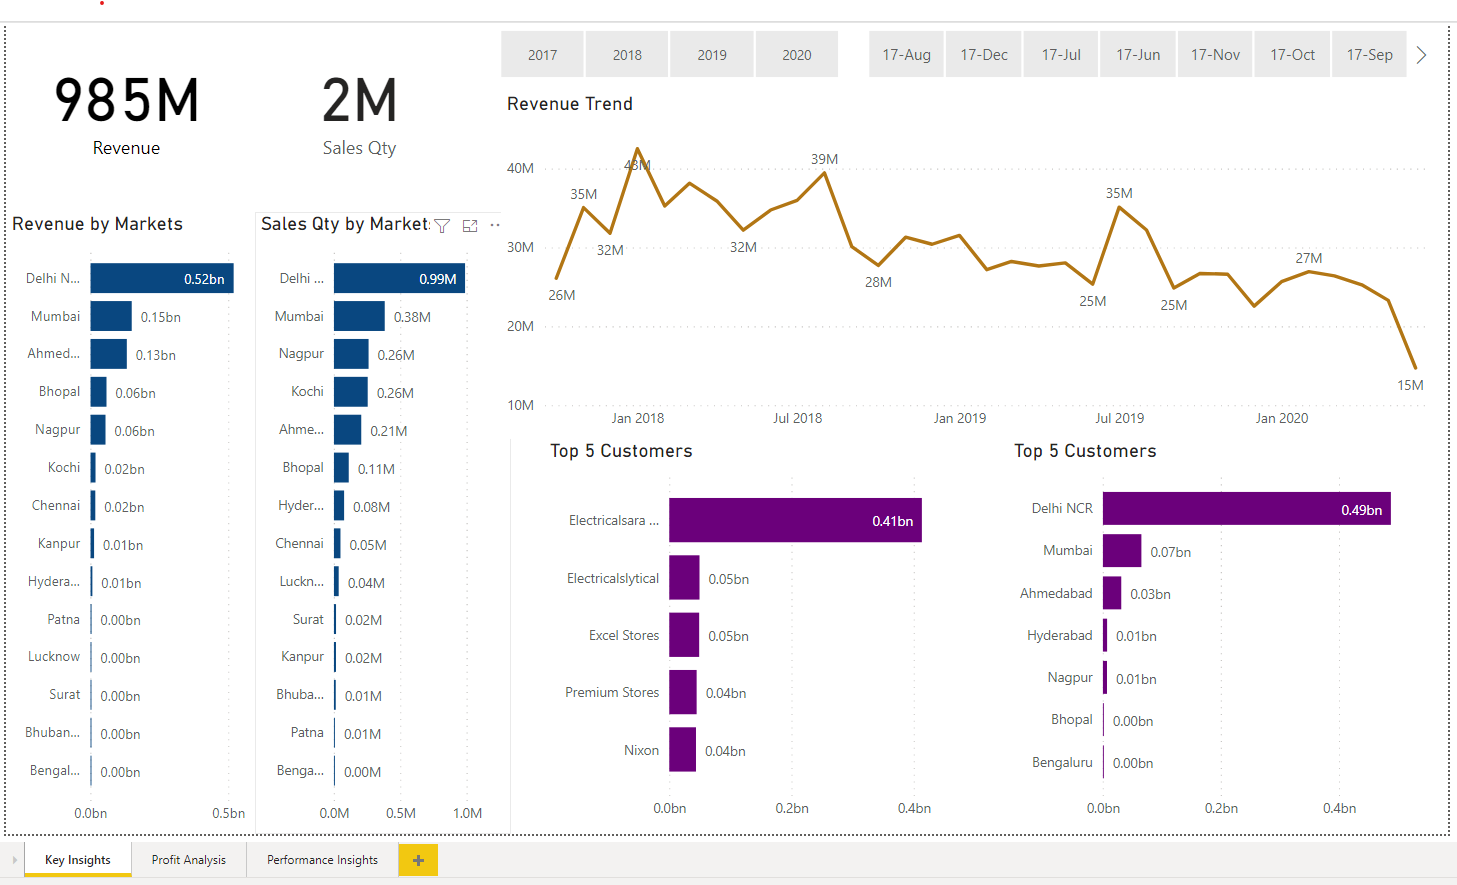

Layout of this report page (visuals, bound fields, positions):
{"tool":"powerbi","page":{"name":"Key Insights","canvas":[1280,720],"ordinal":0},"visuals":[{"type":"card","fields":{"Values":["New Measures.Revenue"]},"box":[9.8,0,193.5,142.9],"z":0},{"type":"card","fields":{"Values":["Sum(sales transactions.sales_qty)"]},"box":[203.3,0,221.1,142.9],"z":1000},{"type":"clusteredBarChart","title":"Revenue by Markets","fields":{"Category":["sales markets.markets_name"],"Y":["New Measures.Revenue"]},"box":[0,167.8,249.5,552.2],"z":2000},{"type":"clusteredBarChart","title":"Sales Qty by Markets","fields":{"Category":["sales markets.markets_name"],"Y":["Sum(sales transactions.Sales Qty)"]},"box":[221.1,167.8,227.3,552.2],"z":3000},{"type":"slicer","fields":{"Values":["sales date.year"]},"box":[413.7,0,348.9,55],"z":4000},{"type":"slicer","fields":{"Values":["sales date.date_yy_mmm"]},"box":[740.4,0,527.3,55],"z":5000},{"type":"lineChart","title":"Revenue Trend","fields":{"Y":["New Measures.Revenue"],"Category":["sales date.cy_date.Variation.Date Hierarchy.Year","sales date.cy_date.Variation.Date Hierarchy.Quarter","sales date.cy_date.Variation.Date Hierarchy.Month","sales date.cy_date.Variation.Date Hierarchy.Day"]},"box":[439.5,61.3,840.7,308.1],"z":6000},{"type":"clusteredBarChart","title":"Top 5 Customers","fields":{"Category":["sales customers.custmer_name"],"Y":["New Measures.Revenue"]},"box":[477.6,369.3,390.6,346.2],"z":7000},{"type":"clusteredBarChart","title":"Top 5 Customers","fields":{"Y":["New Measures.Revenue"],"Category":["sales markets.markets_name"]},"box":[889.6,369.3,390.6,346.2],"z":7001}]}

Visuals, with their boxes on the page's 1280x720 design canvas (x1, y1, x2, y2). These are canvas units, not pixel positions in the 1457x885 screenshot, which may show the page scaled, cropped or inside an application window:
card - New Measures.Revenue: [10,0,203,143]
card - Sum(sales transactions.sales_qty): [203,0,424,143]
"Revenue by Markets" clusteredBarChart: [0,168,250,720]
"Sales Qty by Markets" clusteredBarChart: [221,168,448,720]
slicer - sales date.year: [414,0,763,55]
slicer - sales date.date_yy_mmm: [740,0,1268,55]
"Revenue Trend" lineChart: [440,61,1280,369]
"Top 5 Customers" clusteredBarChart: [478,369,868,716]
"Top 5 Customers" clusteredBarChart: [890,369,1280,716]
